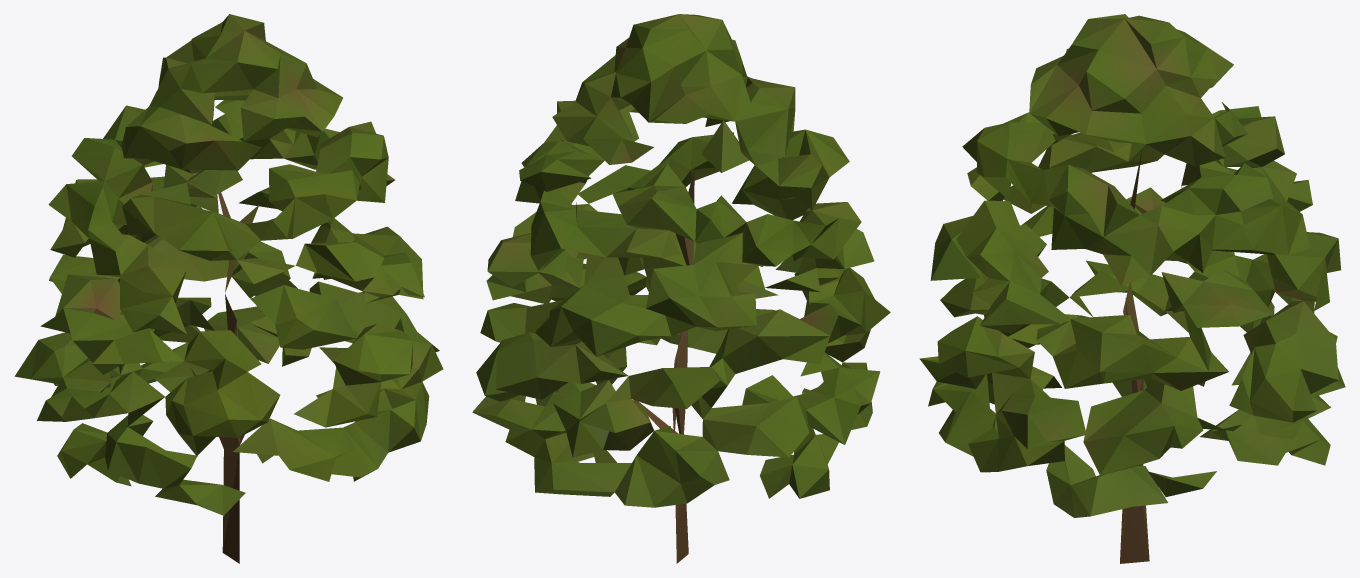
The model's file is lib_tp_degai.vc2.glb.
The picture shows the model from 3 angles, left to right: view 1: azimuth 30°, elevation 25°; view 2: azimuth 150°, elevation 25°; view 3: azimuth 270°, elevation 25°; orthographic projection. The views are drawn at different scales.
Visible parts, largest first — view 1: lib_tp_degai; view 2: lib_tp_degai; view 3: lib_tp_degai.
Boxes of the visible parts, x1,y1,x2,y2 form: lib_tp_degai: (14, 14, 443, 563); lib_tp_degai: (472, 14, 890, 563); lib_tp_degai: (919, 14, 1345, 563).
Size of the model in its own units: 1.41 by 1.97 by 1.38.
